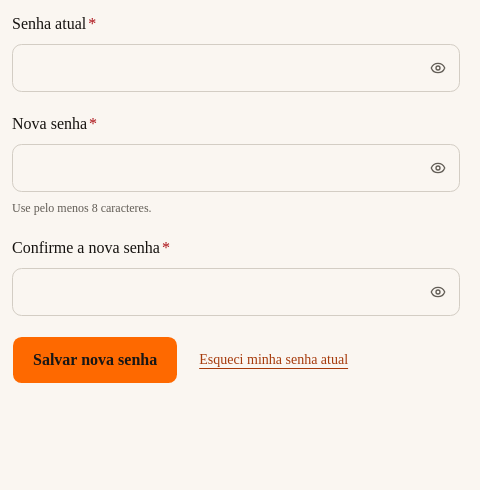
Test: explains a wrong current password next to the field
This screenshot has width=480, height=490.
In the password field labelled "Senha atual*": x=236, y=68 [12,44,460,92], type "senha-antiga"
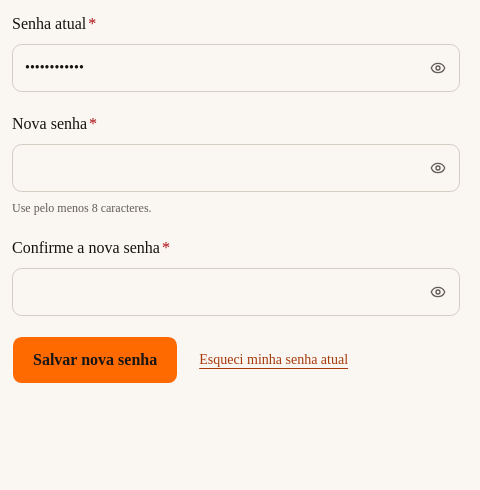
In the password field labelled "Nova senha*": x=236, y=168 [12,144,460,192], type "senha-nova-123"
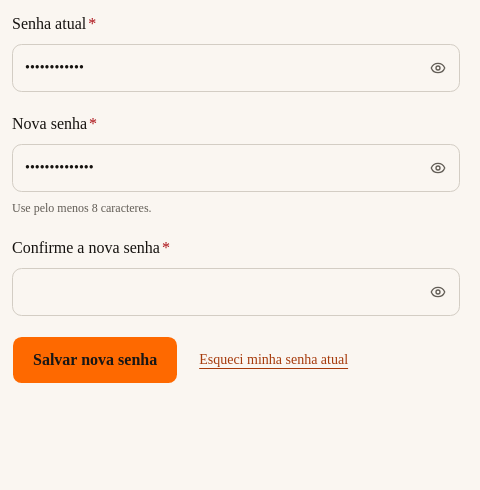
In the password field labelled "Confirme a nova senha*": x=236, y=292 [12,268,460,316], type "senha-nova-123"
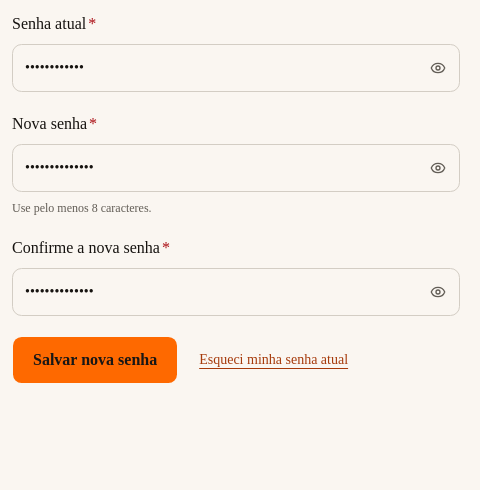
Click the button "Salvar nova senha": x=95, y=360 [12,336,178,384]
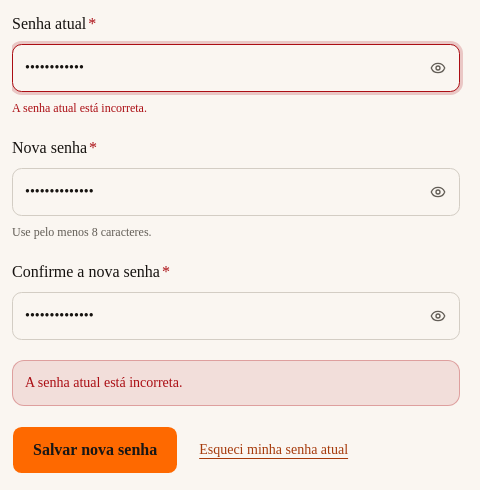
Check: the message reads "A senha atual está incorreta.", box [25,375,182,390]
